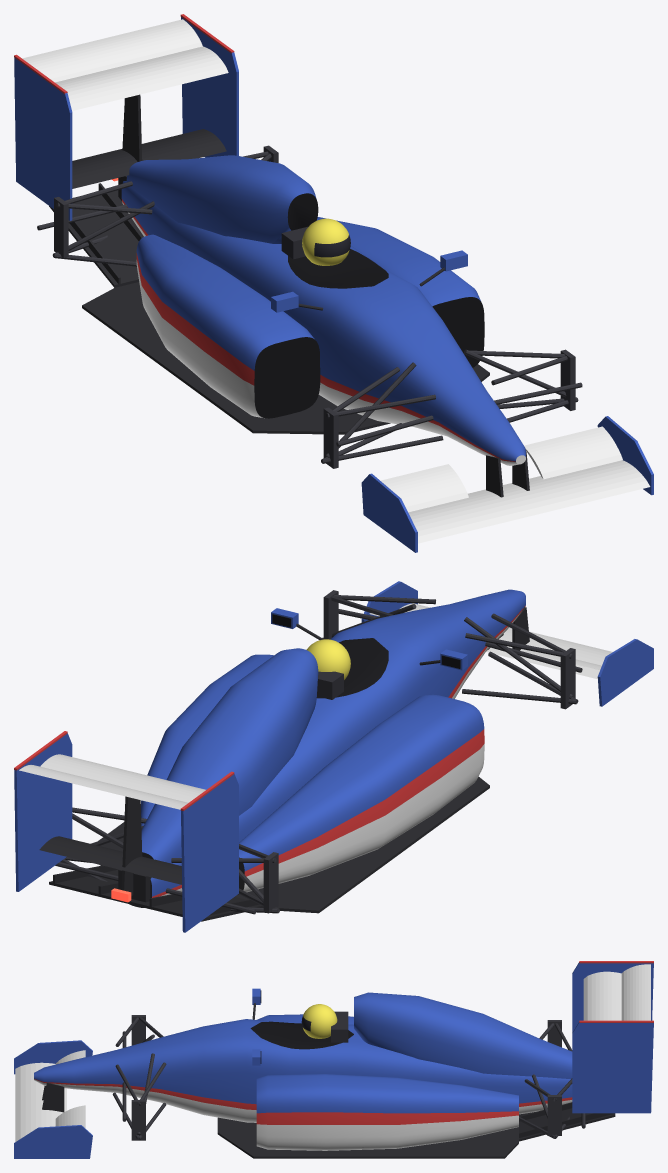
The model's file is f1car.glb.
The picture shows the model from 3 angles, top to bottom: view 1: azimuth 30°, elevation 25°; view 2: azimuth 150°, elevation 25°; view 3: azimuth 270°, elevation 25°; orthographic projection. The views are drawn at different scales.
Parts seen in each view (by area): view 1: Chassis, RearWing, FrontWing, Floor, Suspension, Driver, Cockpit, Mirrors; view 2: Chassis, RearWing, Suspension, Floor, FrontWing, Cockpit, Driver, Mirrors; view 3: Chassis, RearWing, FrontWing, Floor, Suspension, Cockpit, Driver, Mirrors.
Boxes of the visible parts, box(x1,y1,x2,y2) form: Chassis: box(121, 155, 525, 465); RearWing: box(14, 14, 238, 220); FrontWing: box(361, 416, 653, 552); Floor: box(49, 183, 489, 434); Suspension: box(37, 145, 582, 468); Driver: box(281, 218, 350, 265); Cockpit: box(288, 249, 388, 288); Mirrors: box(271, 250, 467, 312); Chassis: box(129, 589, 525, 907); RearWing: box(14, 731, 238, 932); Suspension: box(55, 590, 582, 914); Floor: box(49, 776, 489, 921); FrontWing: box(361, 581, 653, 706); Cockpit: box(316, 638, 388, 698); Driver: box(306, 639, 350, 699); Mirrors: box(271, 608, 467, 670); Chassis: box(34, 992, 572, 1150); RearWing: box(572, 961, 653, 1113); FrontWing: box(14, 1040, 92, 1158); Floor: box(217, 1102, 615, 1158); Suspension: box(112, 1015, 585, 1140); Cockpit: box(250, 1021, 353, 1049); Driver: box(301, 1004, 348, 1042); Mirrors: box(252, 988, 261, 1065).
Bounding box in the file's own units: 1.51 × 0.96 × 4.46.
